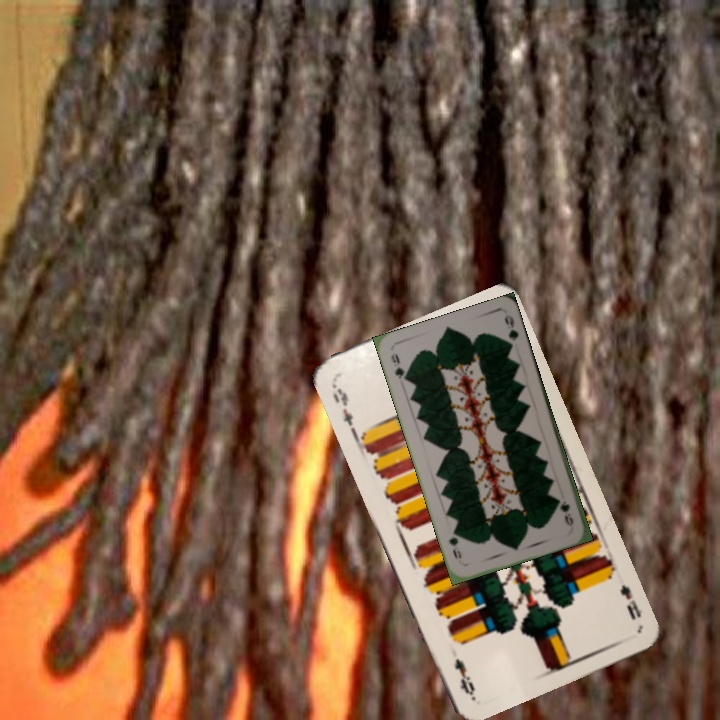E9: (327, 379, 358, 434), (616, 580, 646, 623)
G9: (387, 350, 410, 384), (555, 495, 576, 529)
